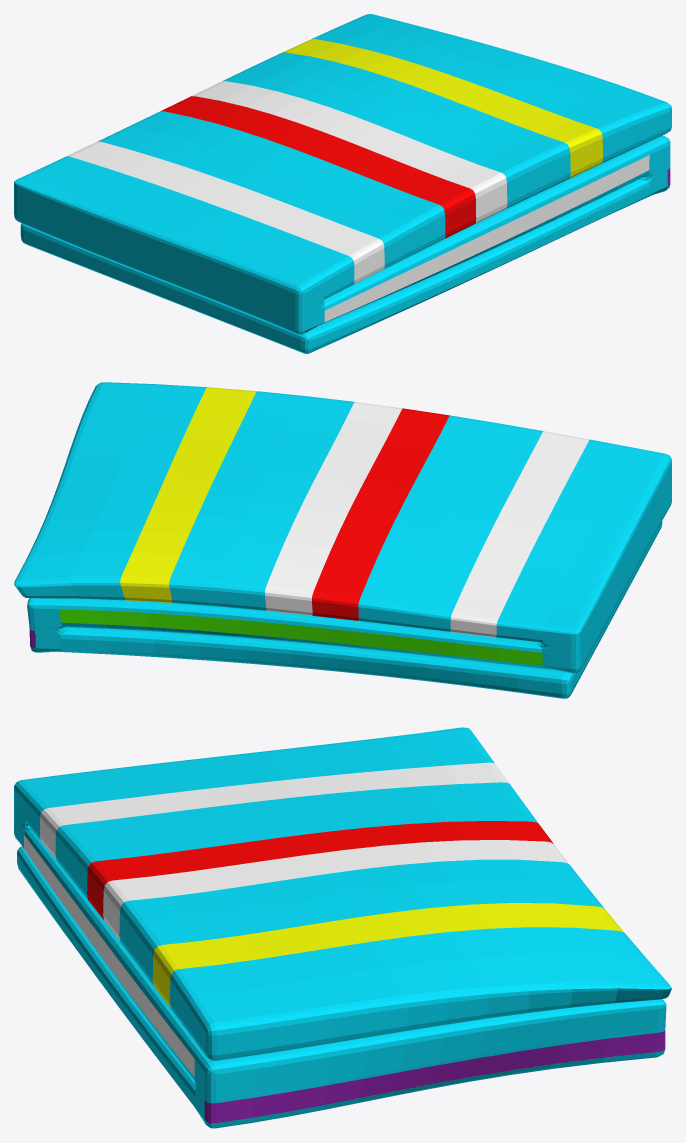
Rendered from towel.glb.
The picture shows the model from 3 angles, top to bottom: view 1: azimuth 30°, elevation 25°; view 2: azimuth 150°, elevation 25°; view 3: azimuth 270°, elevation 25°; orthographic projection. The views are drawn at different scales.
Visible parts, largest first — view 1: Box002; view 2: Box002; view 3: Box002.
Boxes of the visible parts, x1,y1,x2,y2 form: Box002: [14, 14, 671, 353]; Box002: [14, 382, 671, 698]; Box002: [14, 727, 671, 1128].
Bounding box in the file's own units: 0.4 × 0.0641 × 0.3401.
